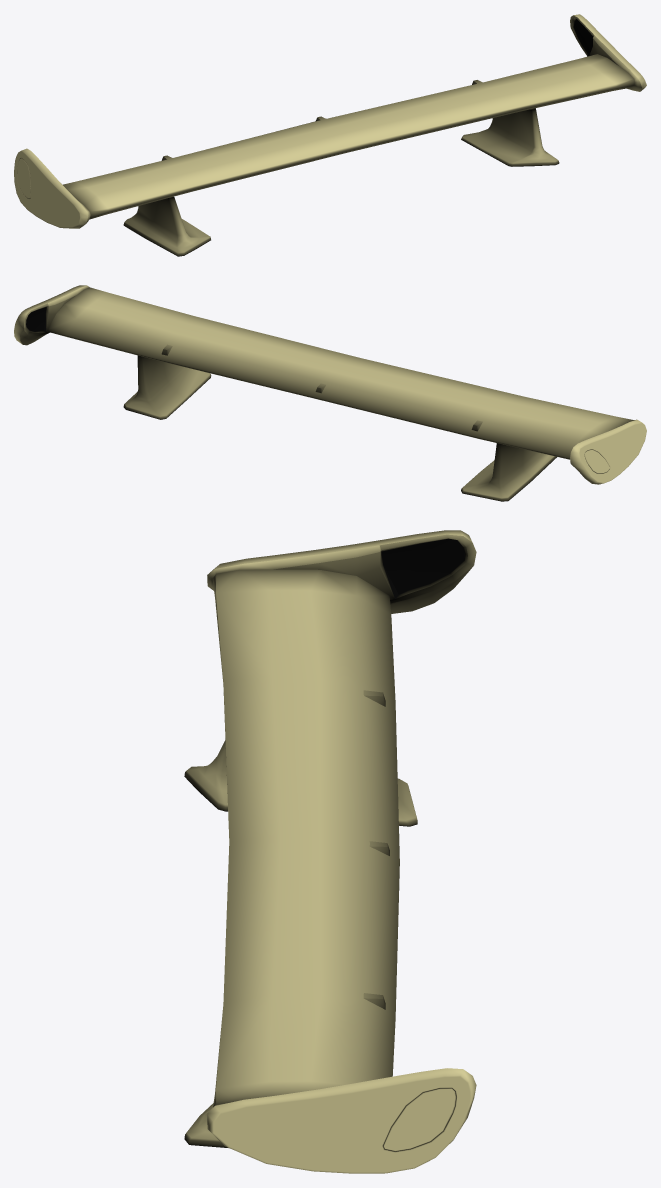
File: R34_Spoiler01_Duco.fbx
3 renders of one model, top to bottom at view 1: azimuth 30°, elevation 25°; view 2: azimuth 150°, elevation 25°; view 3: azimuth 270°, elevation 25°, orthographic. The views are drawn at different scales.
Parts seen in each view (by area): view 1: R34_Spoiler01_Duco; view 2: R34_Spoiler01_Duco; view 3: R34_Spoiler01_Duco.
Boxes of the visible parts, x1,y1,x2,y2 form: R34_Spoiler01_Duco: (14,14,646,256); R34_Spoiler01_Duco: (14,285,646,501); R34_Spoiler01_Duco: (184,530,476,1173).
Bounding box in the file's own units: 141 × 19.82 × 30.56.
